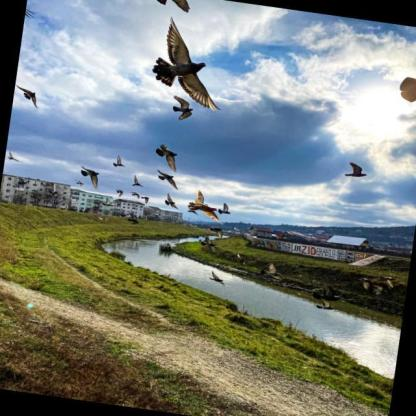bird: (144, 13, 237, 115), (187, 189, 230, 226), (152, 143, 187, 175), (167, 94, 199, 124), (13, 83, 42, 110), (311, 284, 345, 305), (152, 168, 183, 191), (77, 165, 103, 191), (258, 262, 285, 282), (343, 161, 370, 180), (199, 234, 221, 254), (208, 271, 230, 289), (163, 193, 184, 211), (377, 274, 397, 289), (370, 284, 391, 298), (7, 149, 26, 164), (207, 226, 226, 241), (314, 300, 337, 312), (216, 202, 234, 217), (131, 174, 149, 189), (355, 276, 373, 291), (112, 155, 128, 170), (126, 215, 140, 226), (101, 197, 116, 207), (186, 207, 201, 217), (140, 195, 151, 205), (128, 191, 140, 200), (73, 179, 86, 187), (118, 209, 128, 219), (114, 189, 125, 198)
